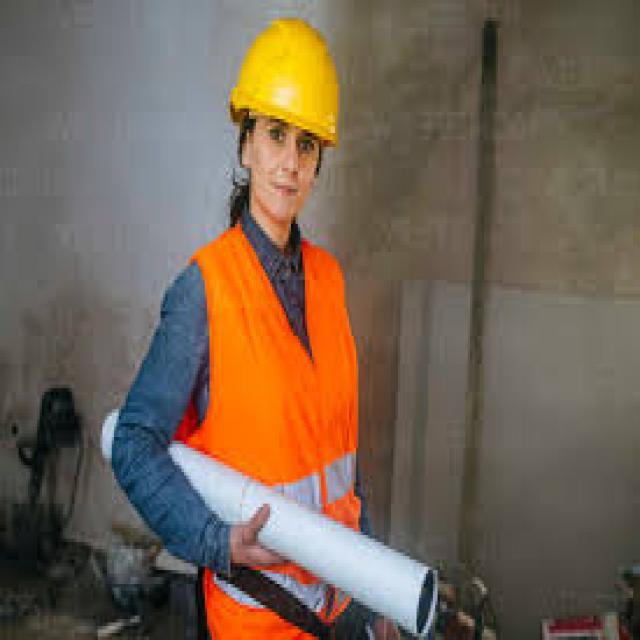Reflective-Jacket: (172, 224, 363, 629)
Safety-Helmet: (224, 14, 349, 154)
